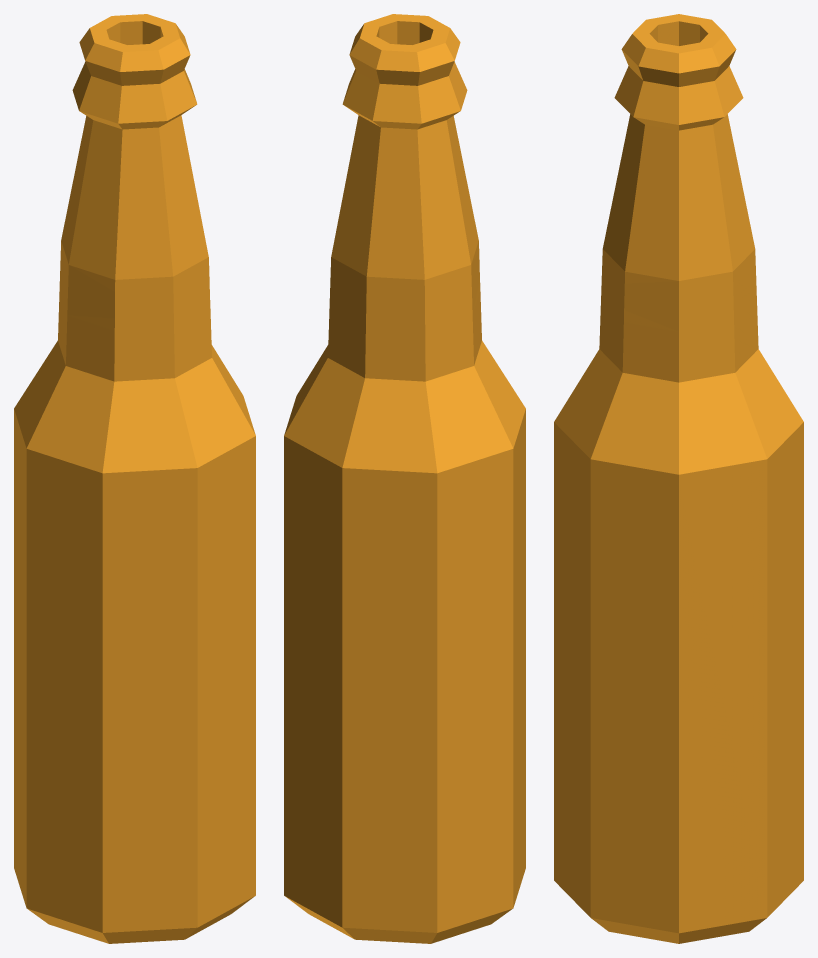
File: SM_Bottle_Beer_Empty_4july_A.fbx
3 renders of one model, left to right at view 1: azimuth 30°, elevation 25°; view 2: azimuth 150°, elevation 25°; view 3: azimuth 270°, elevation 25°, orthographic.
Parts seen in each view (by area): view 1: bottle-beer-empty-4july-a; view 2: bottle-beer-empty-4july-a; view 3: bottle-beer-empty-4july-a.
Boxes of the visible parts, x1=… form: bottle-beer-empty-4july-a: x1=14, y1=14, x2=255, y2=943; bottle-beer-empty-4july-a: x1=284, y1=14, x2=525, y2=943; bottle-beer-empty-4july-a: x1=554, y1=14, x2=803, y2=943.
Bounding box in the file's own units: 0.06 × 0.23 × 0.06.
